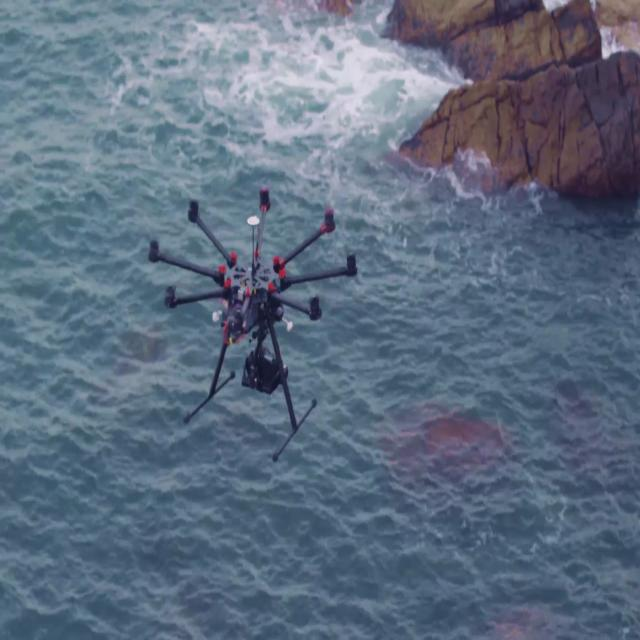drone: (138, 159, 363, 454)
